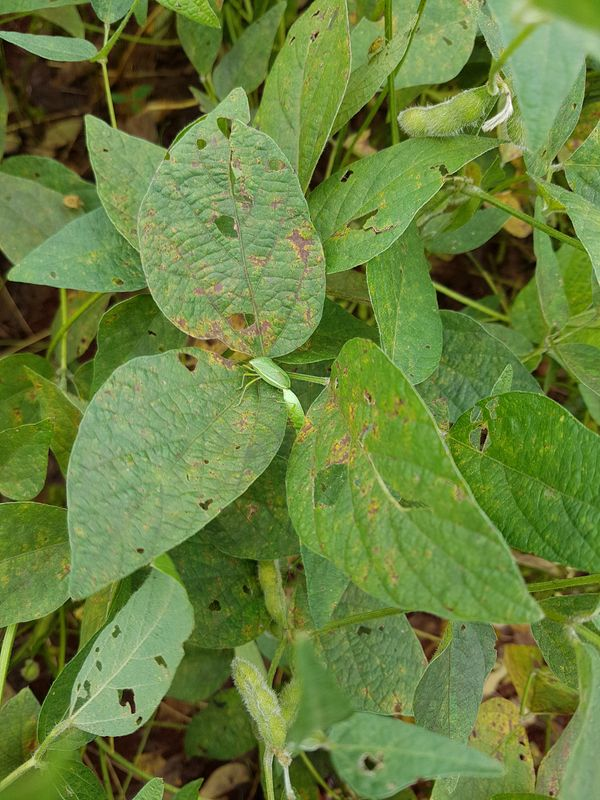Euschistus_heros_ninfa: (57, 190, 87, 216)
Nezara_viridula_adulto: (223, 341, 305, 409)
